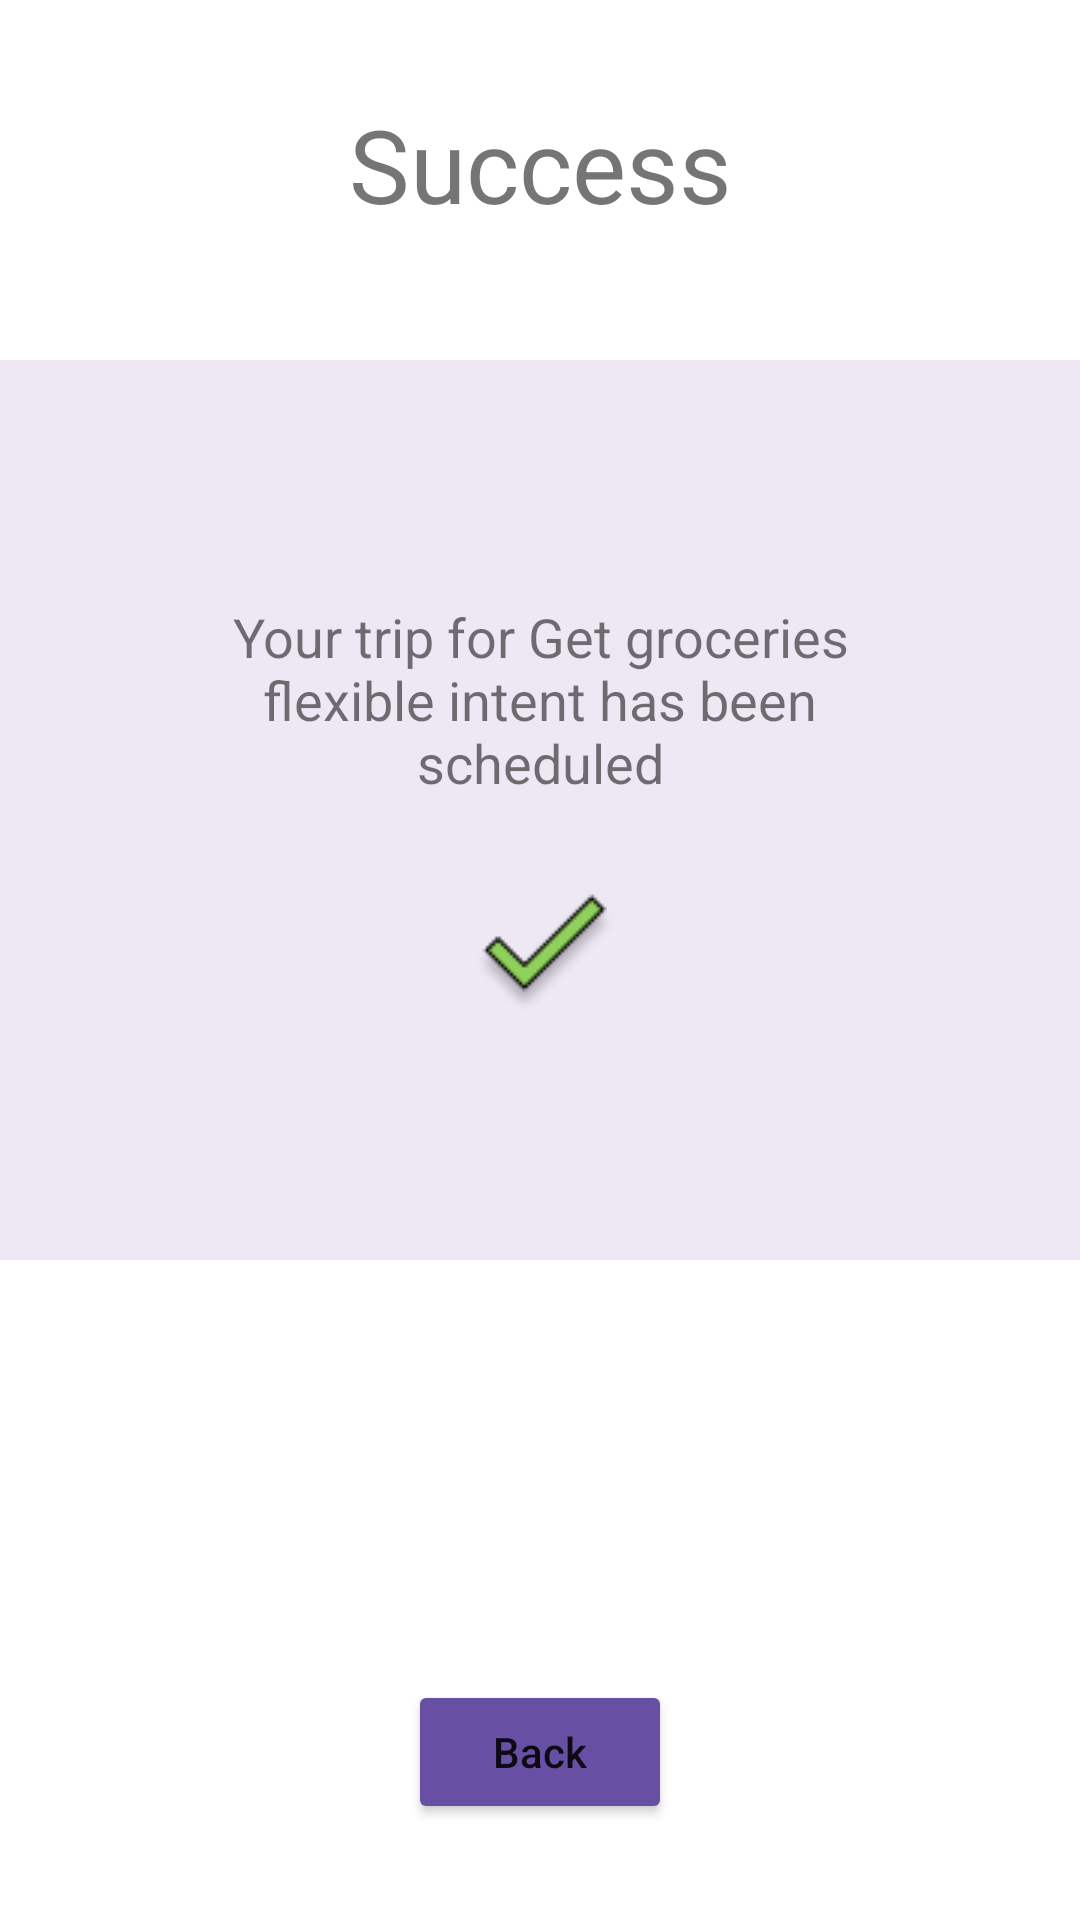

Icons on this 1080w x 1920h Android screen, each with the point to tap as (x,y):
success: (545,947)
